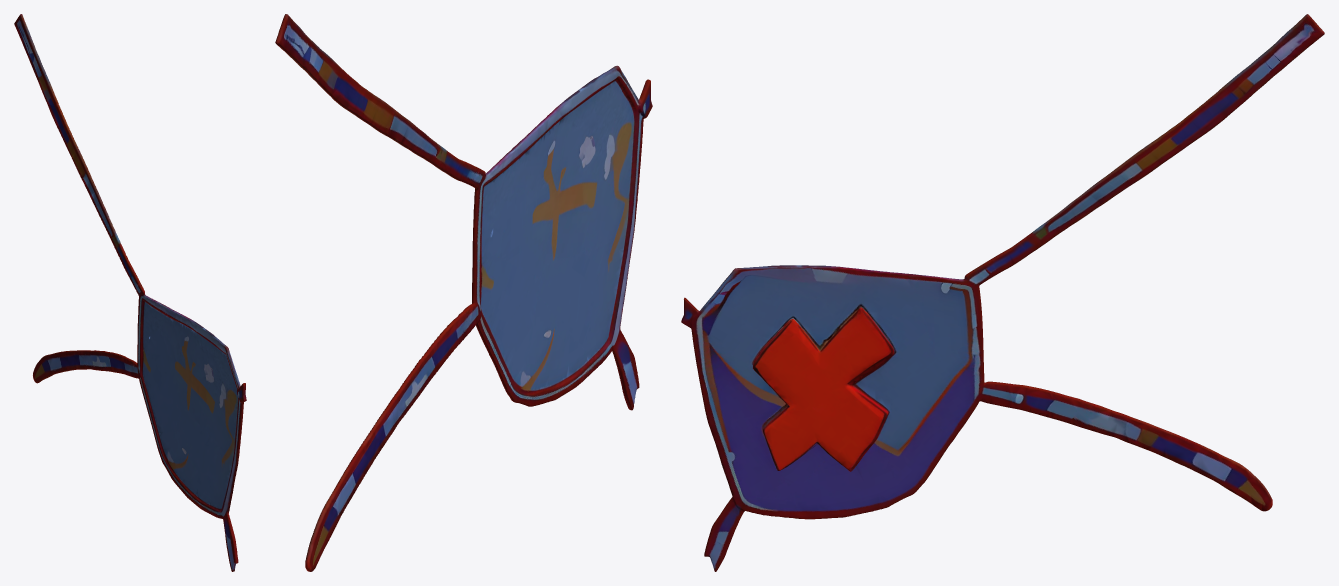
File: 11_002_Mask_Payne-Patch.glb
The picture shows the model from 3 angles, left to right: view 1: azimuth 30°, elevation 25°; view 2: azimuth 150°, elevation 25°; view 3: azimuth 270°, elevation 25°; orthographic projection. The views are drawn at different scales.
Parts seen in each view (by area): view 1: tripo_node_c2d11add-47a7-4053-9623-b49fcc4be63f; view 2: tripo_node_c2d11add-47a7-4053-9623-b49fcc4be63f; view 3: tripo_node_c2d11add-47a7-4053-9623-b49fcc4be63f.
Part boxes in pixels (box(x1,y1,x2,y2)): tripo_node_c2d11add-47a7-4053-9623-b49fcc4be63f: box(14, 14, 246, 571); tripo_node_c2d11add-47a7-4053-9623-b49fcc4be63f: box(275, 14, 652, 571); tripo_node_c2d11add-47a7-4053-9623-b49fcc4be63f: box(681, 14, 1324, 571).
Bounding box in the file's own units: 0.0219 × 0.9572 × 1.
Materials: 1 (1 with a texture image).
